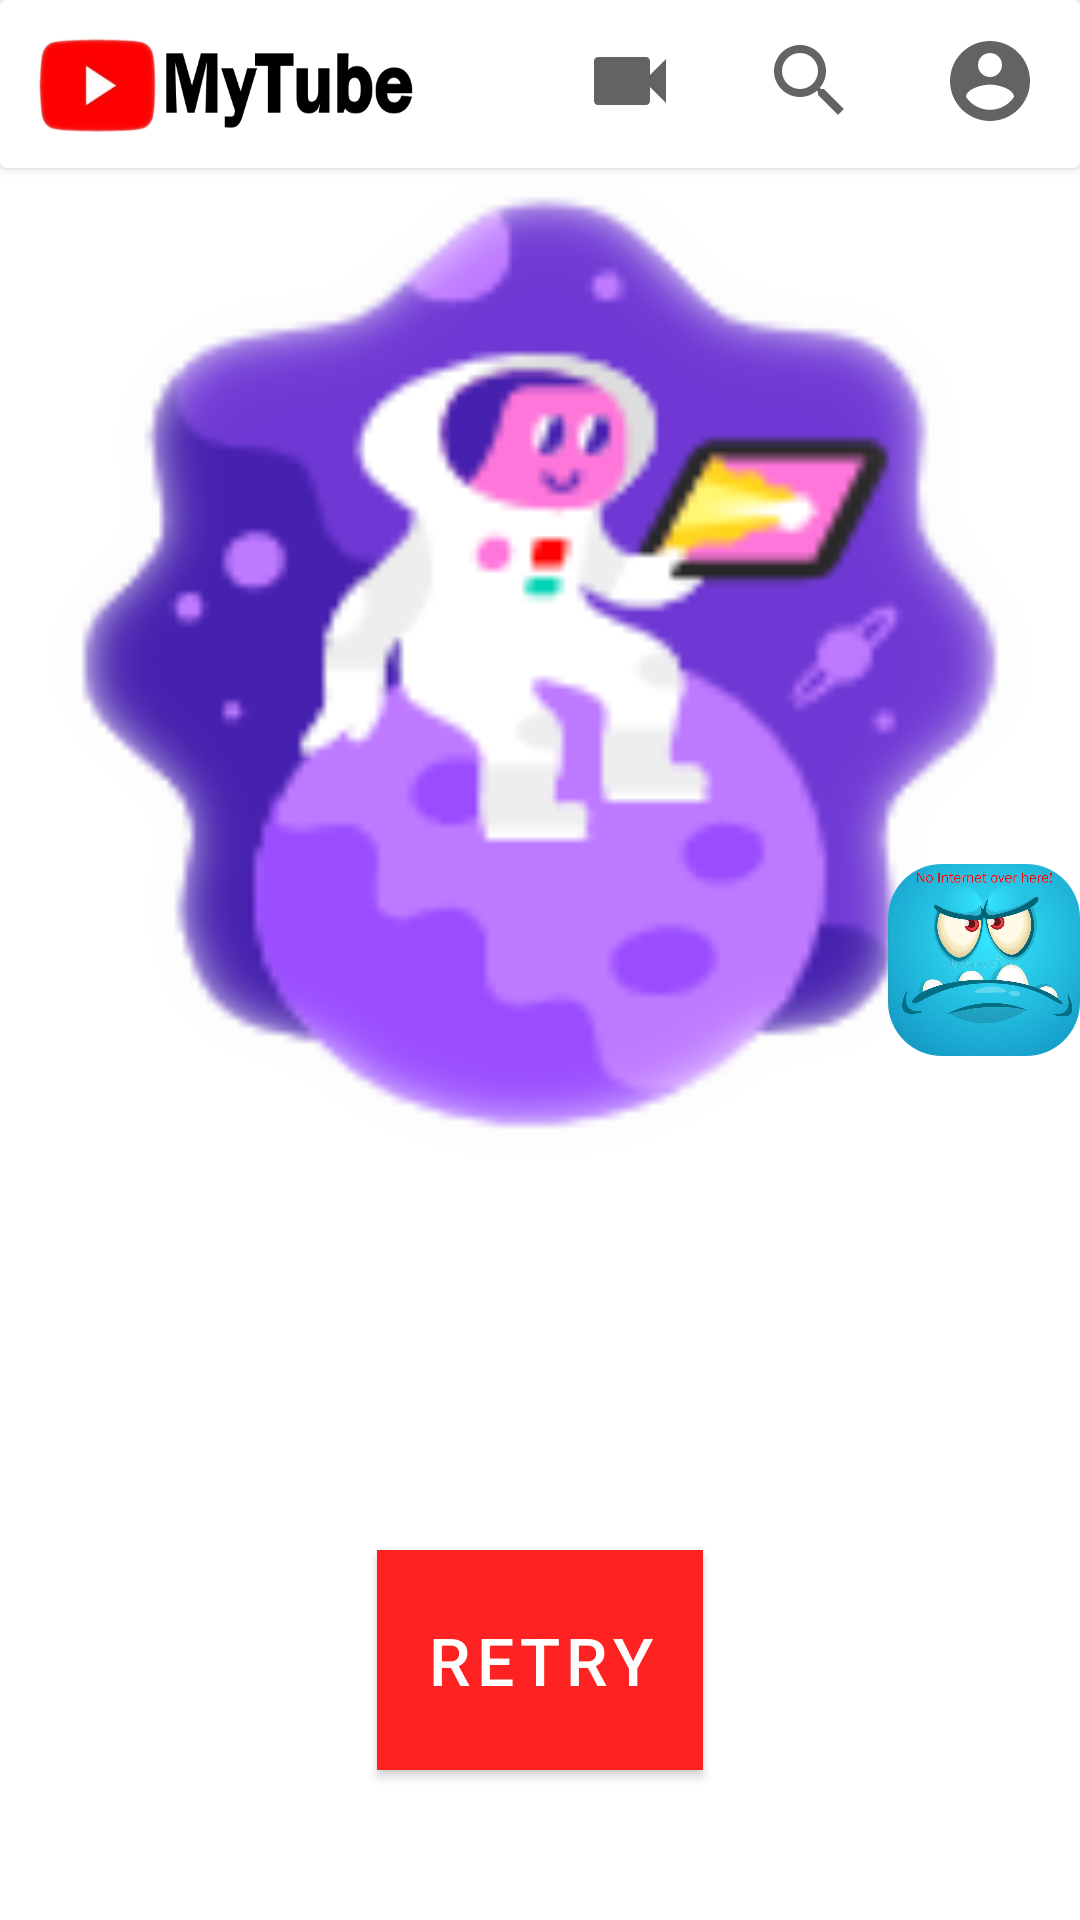

Point at icon controls on the screen. Image size 1080 x 1920, points as (x,y).
account: (990,81)
Partially Loaded videos error: (984,960)
search: (809,80)
videocam: (630,81)
